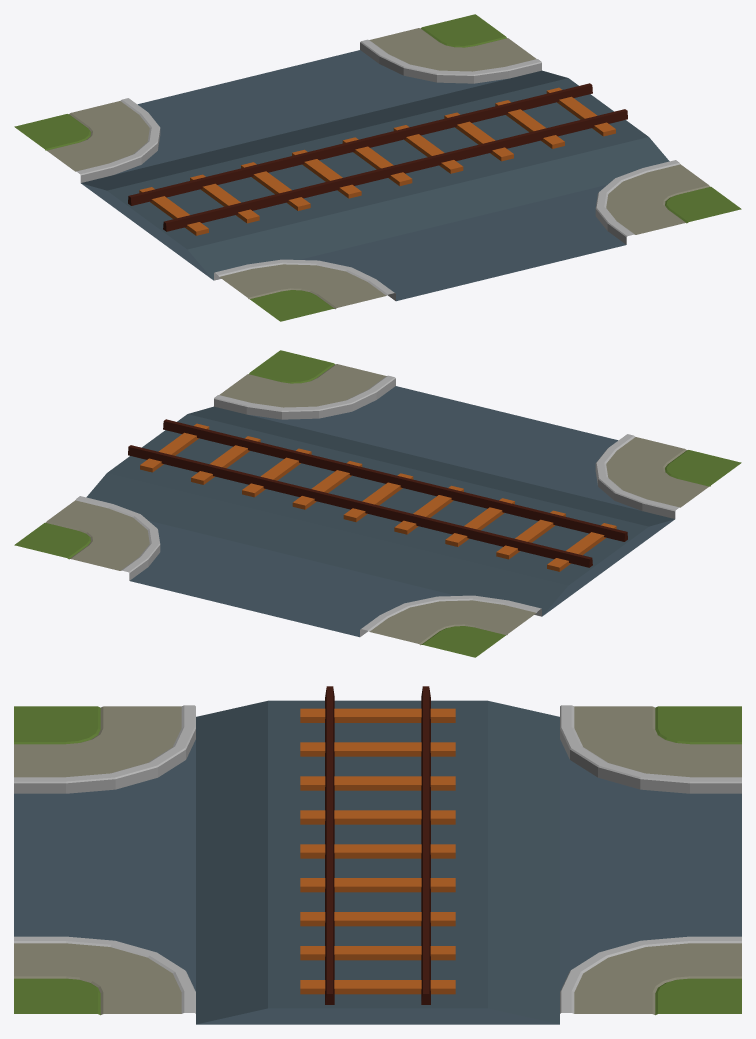
File: Train Intersection.fbx
3 renders of one model, top to bottom at view 1: azimuth 30°, elevation 25°; view 2: azimuth 150°, elevation 25°; view 3: azimuth 270°, elevation 25°, orthographic. The views are drawn at different scales.
Parts seen in each view (by area): view 1: Circle.008, raleway_track; view 2: Circle.008, raleway_track; view 3: Circle.008, raleway_track.
Part boxes in pixels (left/top/right/bottom): Circle.008: left=14, top=14, right=741, bottom=321; raleway_track: left=81, top=70, right=669, bottom=280; Circle.008: left=14, top=350, right=741, bottom=657; raleway_track: left=86, top=406, right=674, bottom=616; Circle.008: left=14, top=705, right=741, bottom=1024; raleway_track: left=196, top=686, right=559, bottom=1024.
Bounding box in the file's own units: 3.4 × 0.1571 × 3.4.
